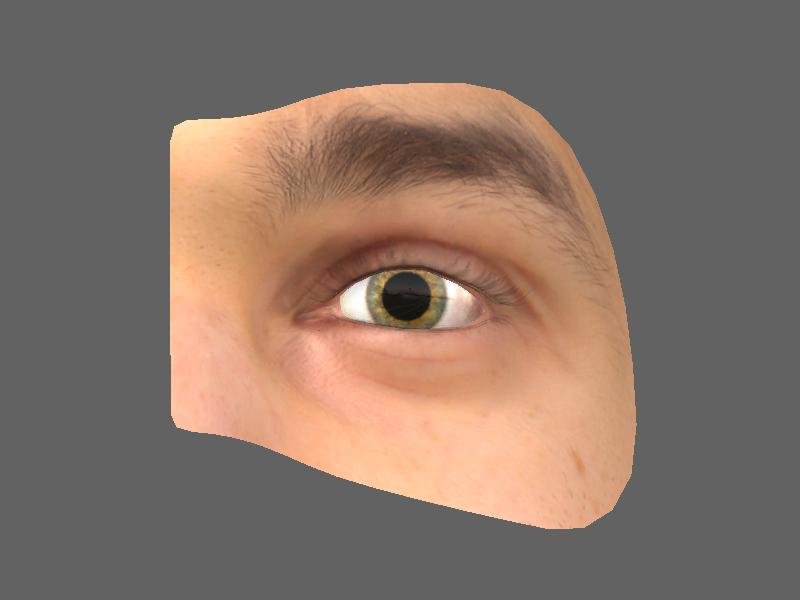iris: (366, 269, 450, 328)
